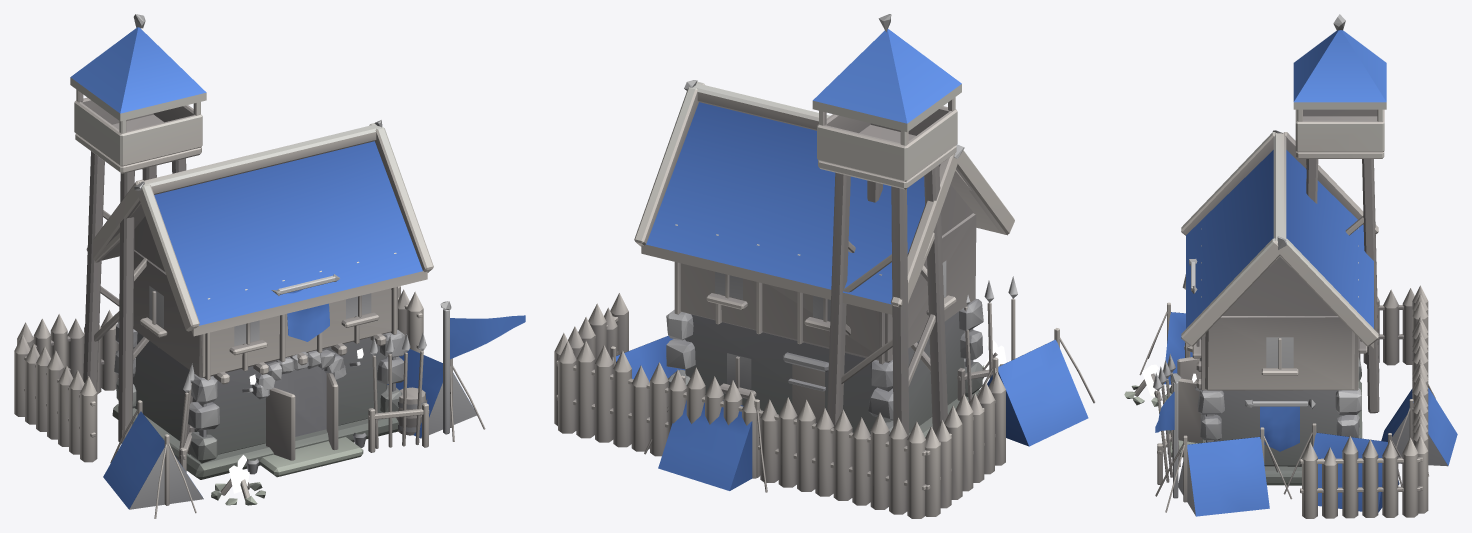
The model's file is barracks_2_9.glb.
3 views of the same model, side by side, from view 1: azimuth 30°, elevation 25°; view 2: azimuth 150°, elevation 25°; view 3: azimuth 270°, elevation 25° (orthographic). The views are drawn at different scales.
Parts seen in each view (by area): view 1: Tower; view 2: Tower; view 3: Tower.
Boxes of the visible parts, <box> form: Tower: <box>14,14,525,518</box>; Tower: <box>554,14,1095,518</box>; Tower: <box>1124,14,1457,518</box>.
Size of the model in its own units: 5.17 by 5.28 by 4.15.
